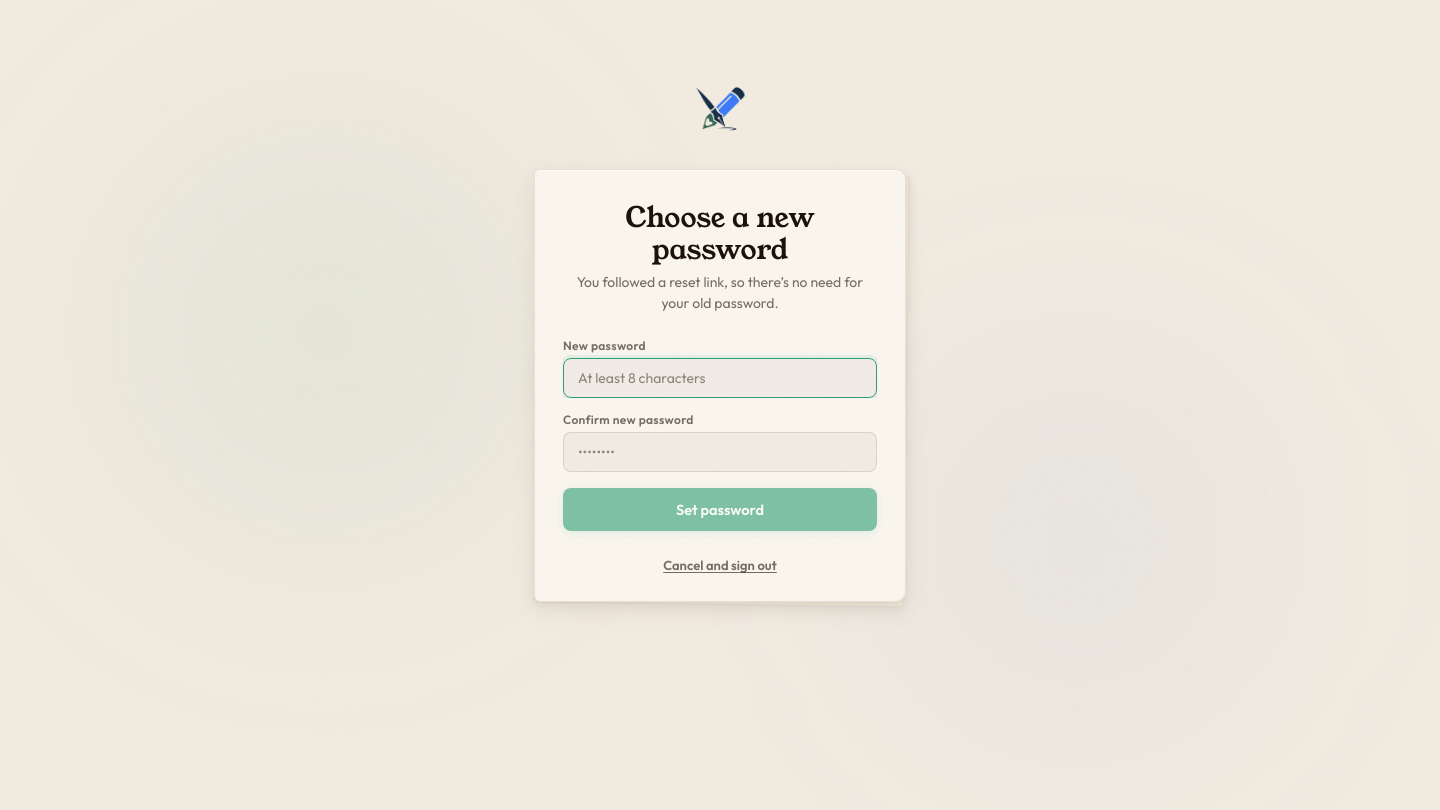
ResetPasswordScreen › keeps the student here when the update fails
In the password field with placeholder "At least 8 characters": (720, 378) [563,358,877,398], type "a-good-password"
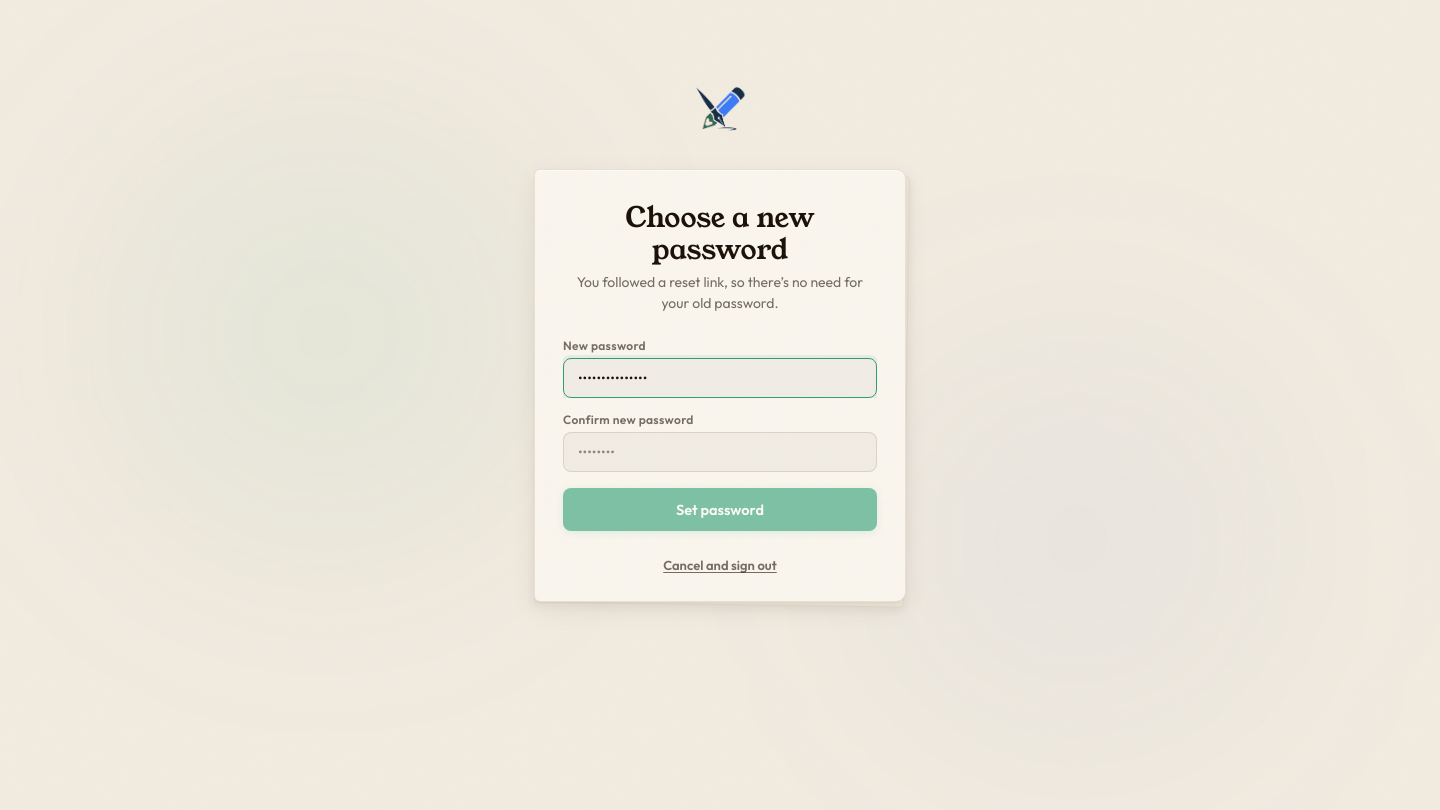
In the password field with placeholder "••••••••": (720, 452) [563,432,877,472], type "a-good-password"
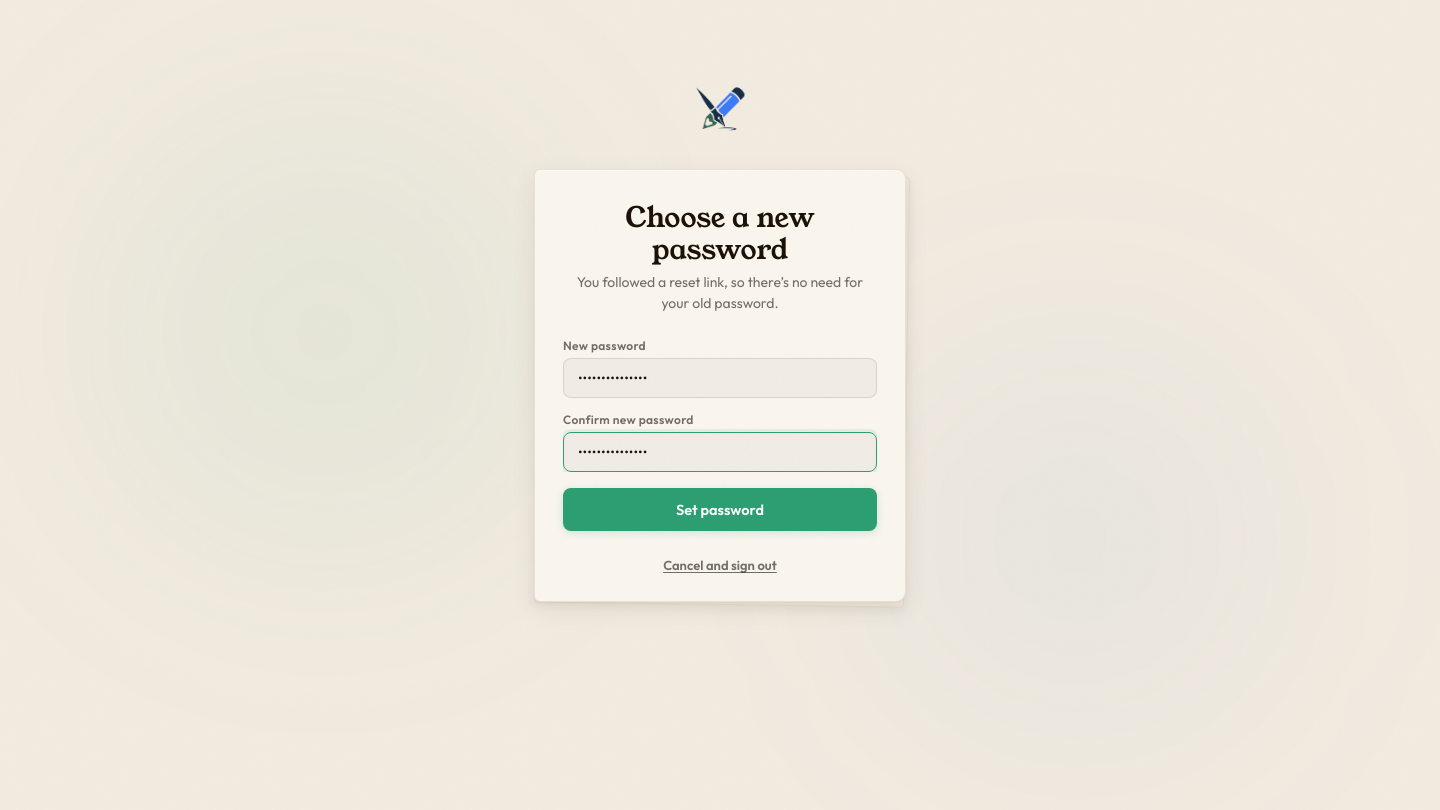
Click the button "Set password": (720, 510) [563,488,877,531]
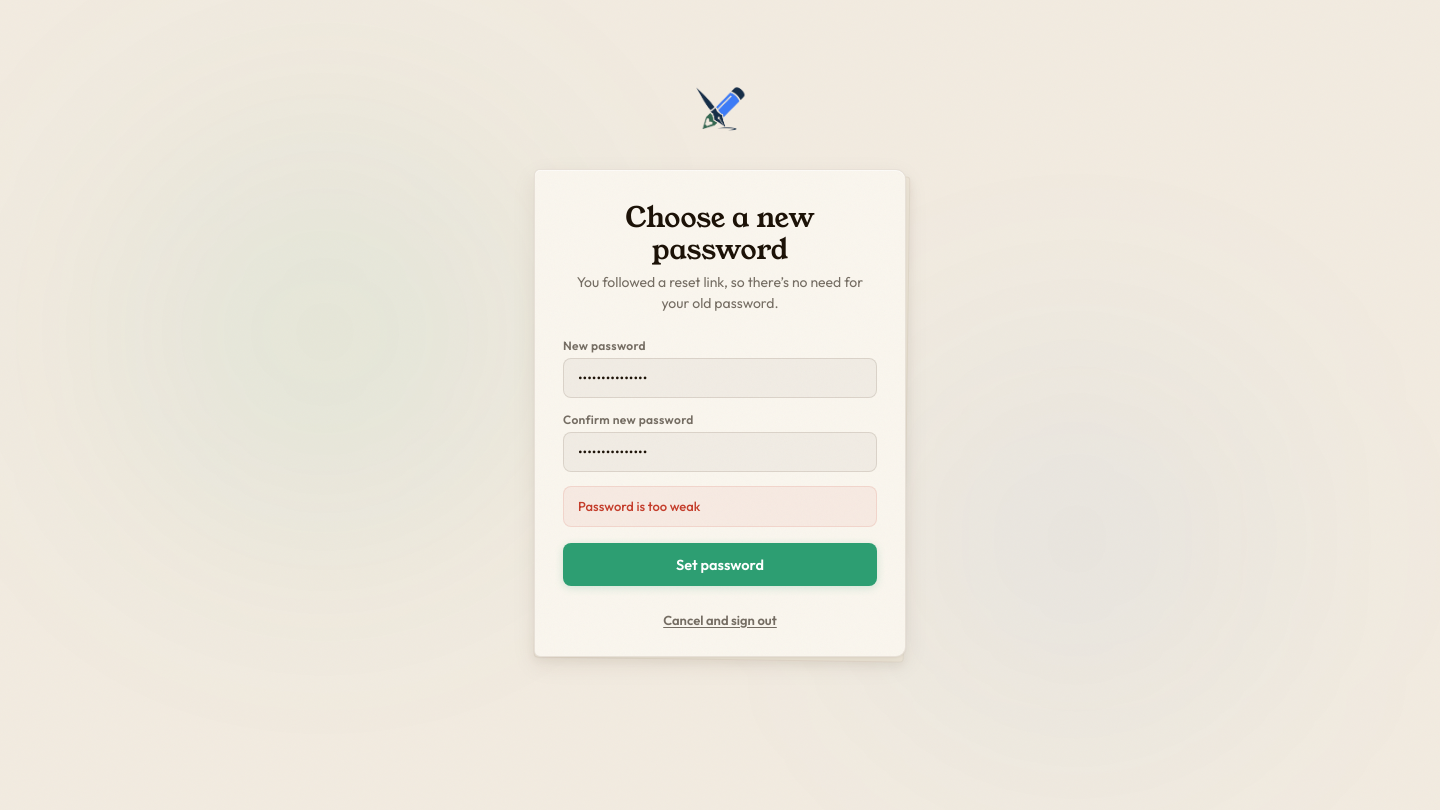
Expected: the text "Password is too weak" is shown, [563,486,877,527]
